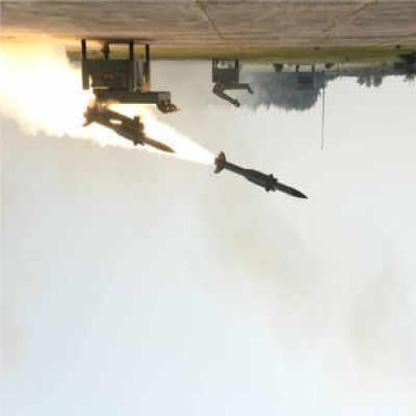MIL_TBM: (211, 149, 316, 209)
